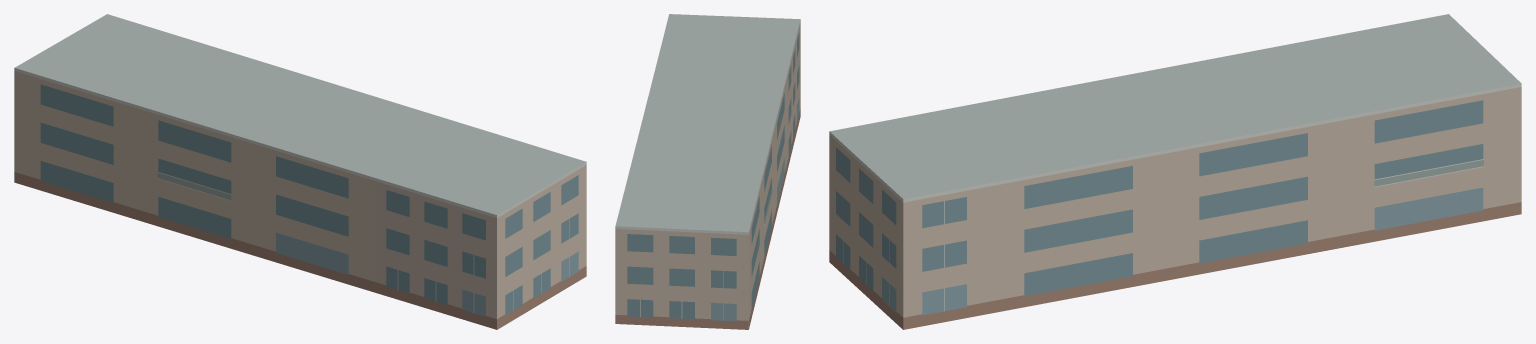
Rendered from survey-upis-32522878.glb.
3 views of the same model, side by side, from view 1: azimuth 30°, elevation 25°; view 2: azimuth 150°, elevation 25°; view 3: azimuth 270°, elevation 25° (orthographic). The views are drawn at different scales.
Parts seen in each view (by area): view 1: survey-upis-32522878.tmp; view 2: survey-upis-32522878.tmp; view 3: survey-upis-32522878.tmp.
Boxes of the visible parts, box(x1,y1,x2,y2) form: survey-upis-32522878.tmp: box(14, 14, 586, 329); survey-upis-32522878.tmp: box(615, 14, 800, 329); survey-upis-32522878.tmp: box(829, 14, 1521, 329).
Bounding box in the file's own units: 27.79 × 9.15 × 43.9.
